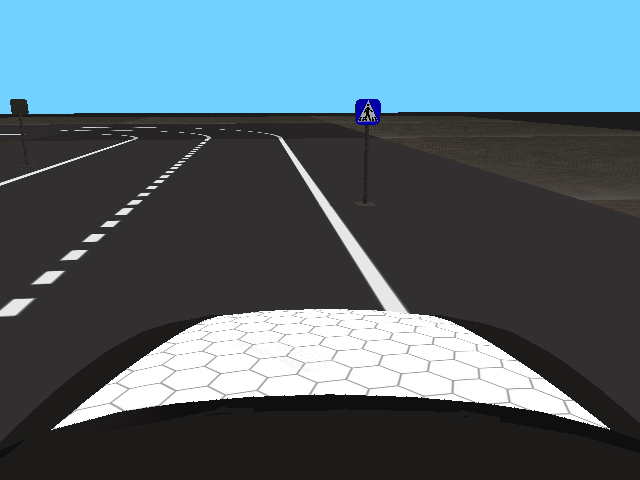pedestrian_cross: (354, 98, 381, 125)
